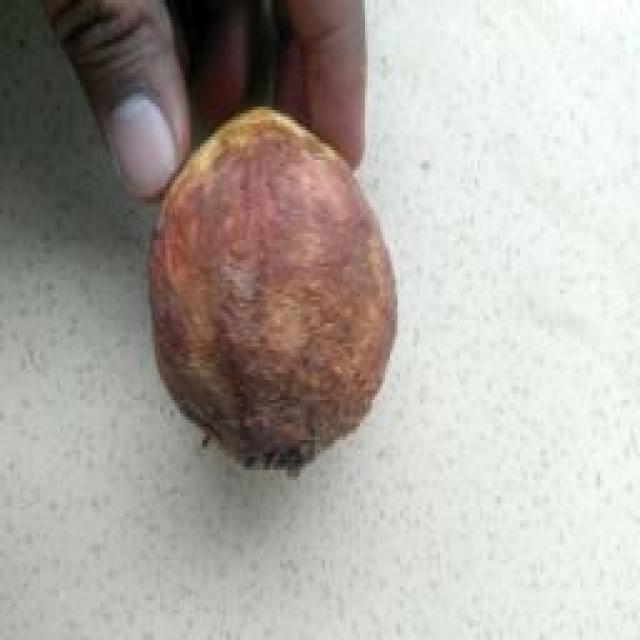Bad_Guava: (150, 108, 395, 468)
